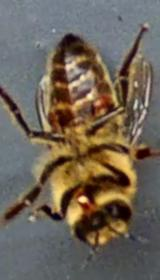varroa_mite: (83, 85, 124, 126), (40, 104, 62, 135)
